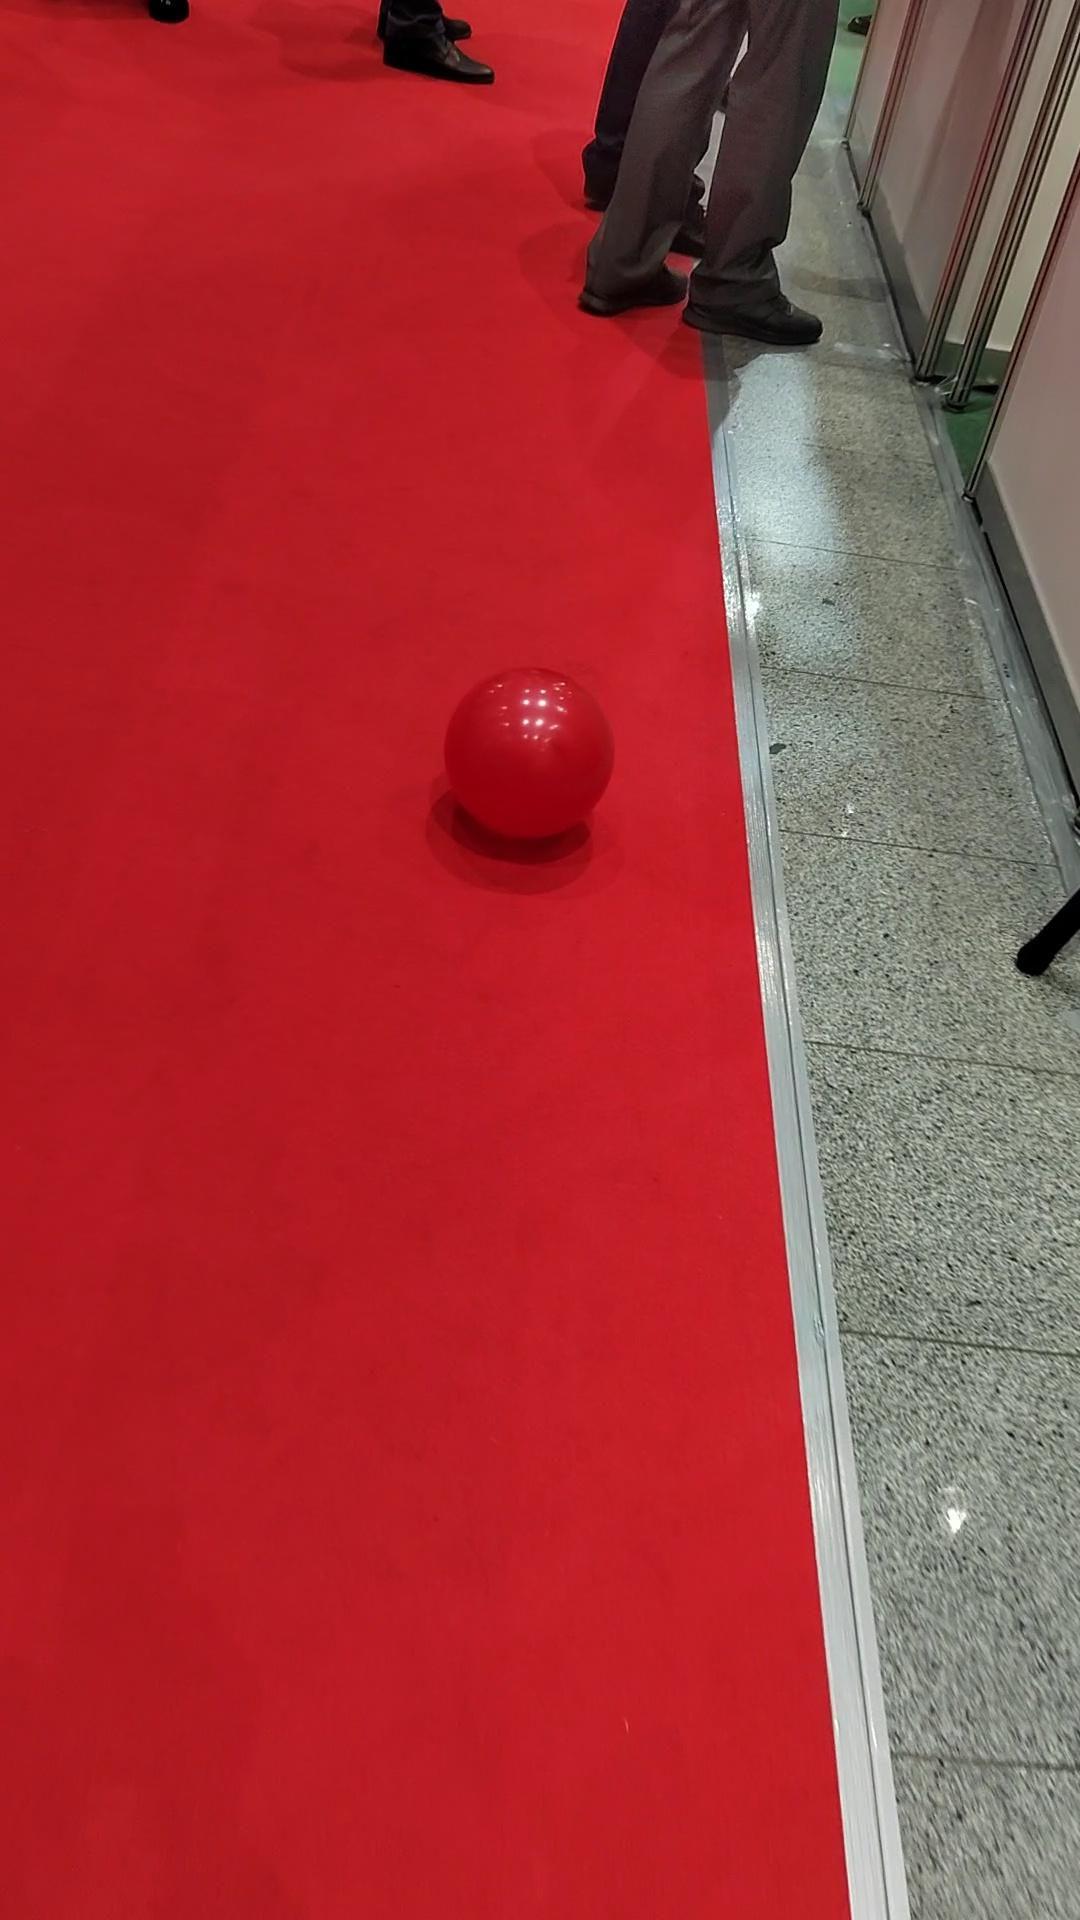red: (443, 670, 616, 841)
